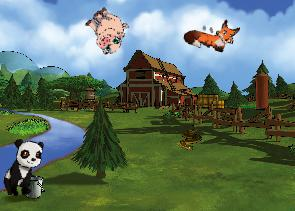fox: (182, 10, 241, 57)
panda: (0, 135, 46, 201)
pig: (78, 2, 134, 58)
